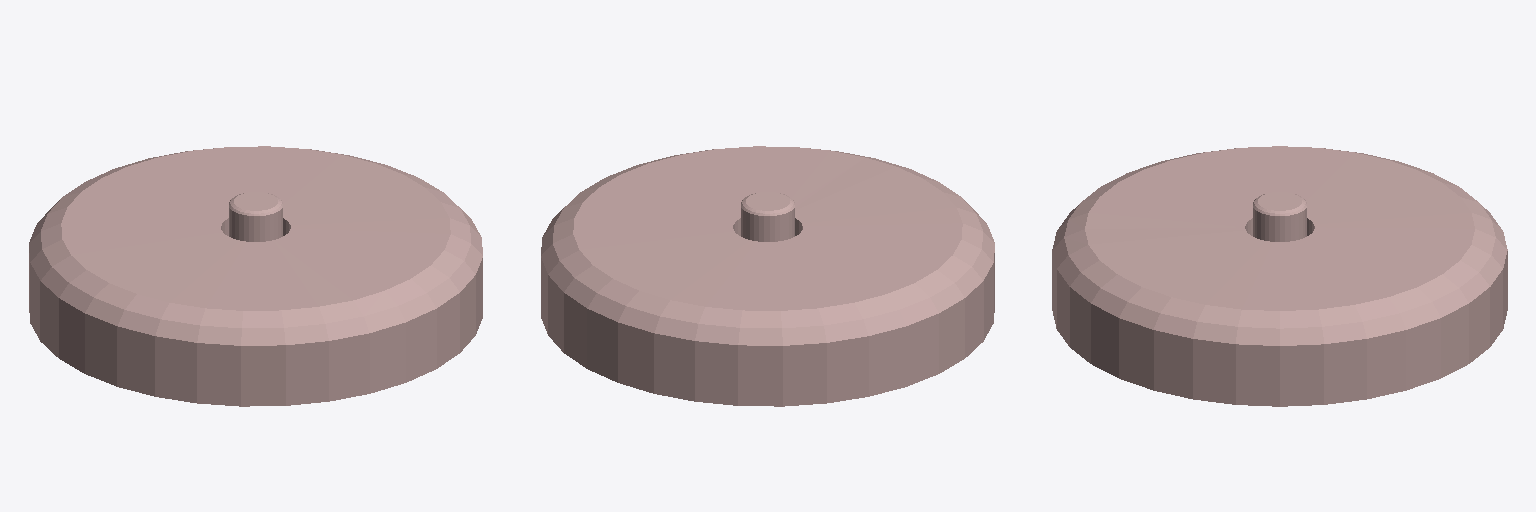
File: land-mine.obj
3 renders of one model, left to right at view 1: azimuth 30°, elevation 25°; view 2: azimuth 150°, elevation 25°; view 3: azimuth 270°, elevation 25°, orthographic.
Visible parts, largest first — view 1: Land_Mine_Cylinder; view 2: Land_Mine_Cylinder; view 3: Land_Mine_Cylinder.
Boxes of the visible parts, x1,y1,x2,y2 form: Land_Mine_Cylinder: [29, 146, 482, 406]; Land_Mine_Cylinder: [541, 146, 994, 406]; Land_Mine_Cylinder: [1052, 146, 1507, 406].
Bounding box in the file's own units: 2 × 0.5293 × 2.